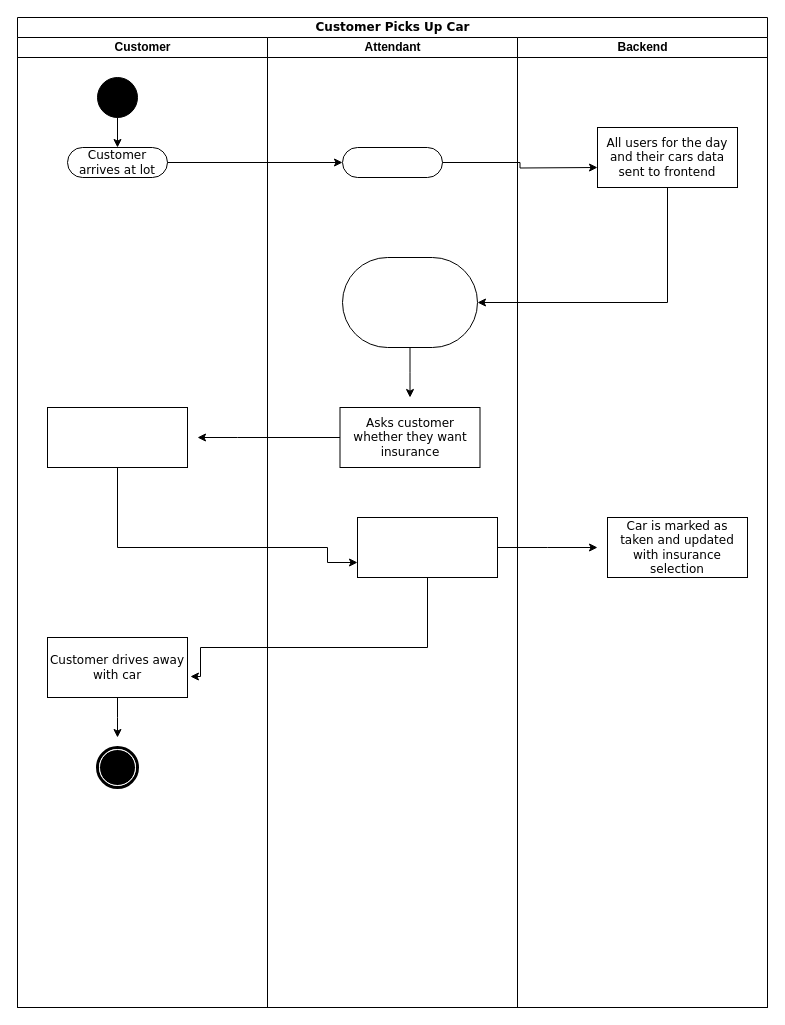
Image size: 785x1025. Some labels were removed from this diagram. Each missing label, with the centre of its shape:
"Attendant marks customer choice and gives them keys" goes at pixel 427 547.
"Attendant sign in" goes at pixel 392 162.
"Selects the user that is at parking lot" goes at pixel 410 302.
"User tells attendant insurance option" goes at pixel 117 437.
